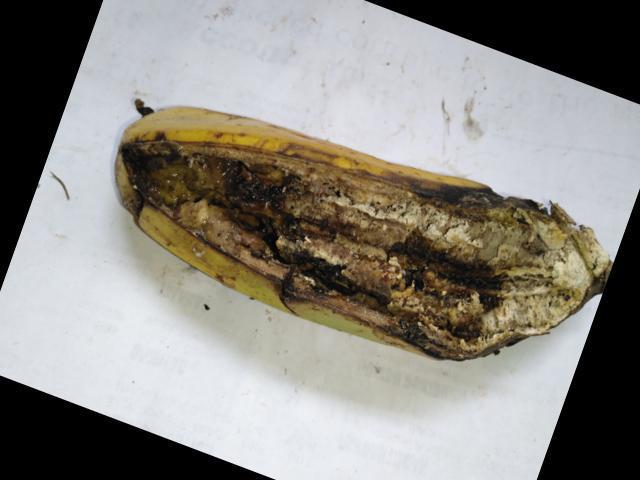rotten: (109, 120, 625, 376)
